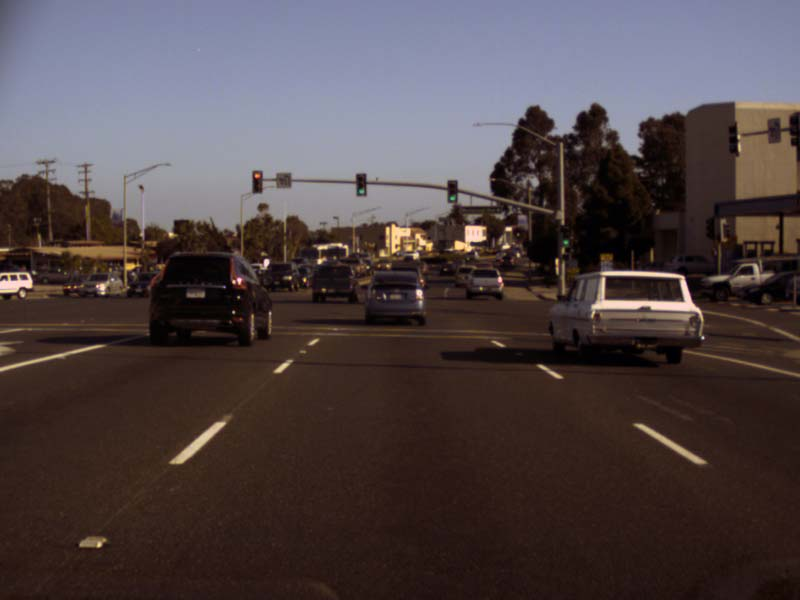Green: (355, 172, 366, 197), (446, 179, 457, 203), (562, 227, 570, 246)
Red: (252, 170, 262, 192)
